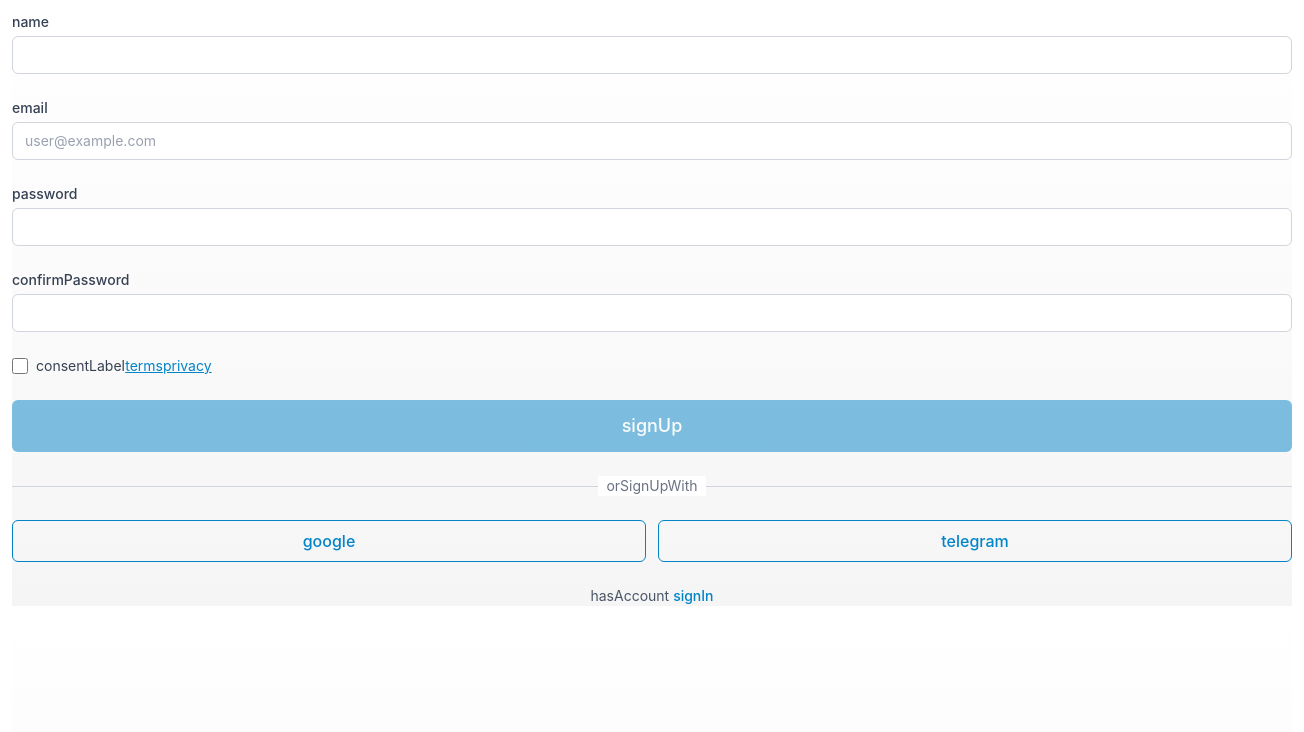
Test case: RegisterForm › submit button is enabled when all fields have values and consent is checked
The width and height of the screenshot is (1304, 732).
Type "Test User" into the field labelled "name" at (652, 55), box [12,36,1292,74]
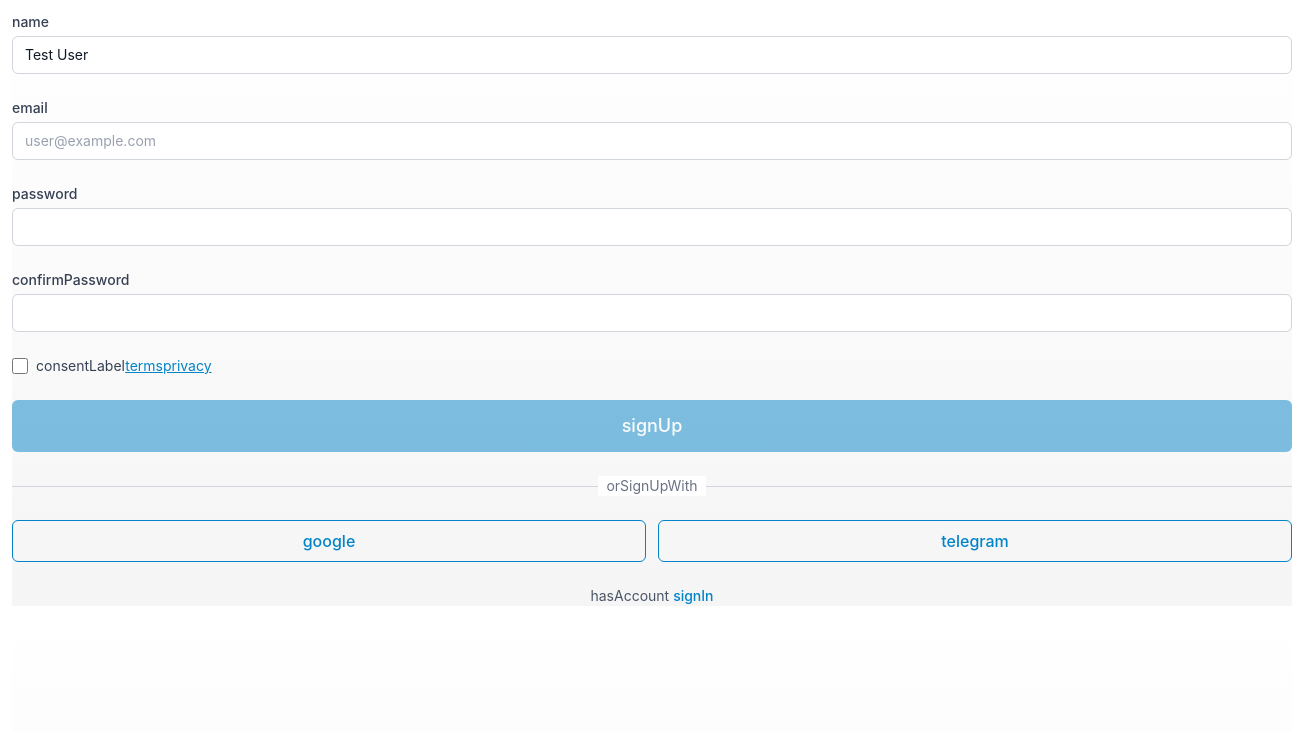
Type "test@example.com" into the field labelled "email" at (652, 141), box [12,122,1292,160]
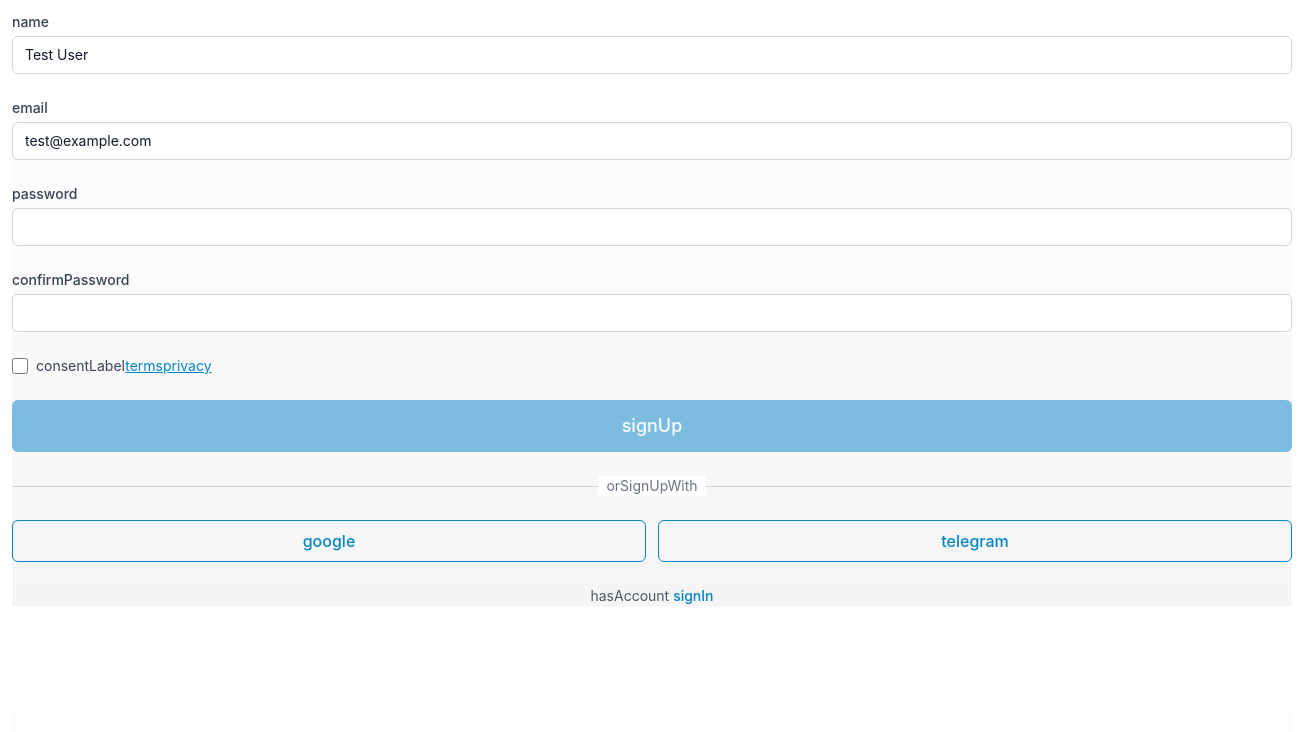
Type "Password1" into the password field labelled "password" at (652, 227), box [12,208,1292,246]
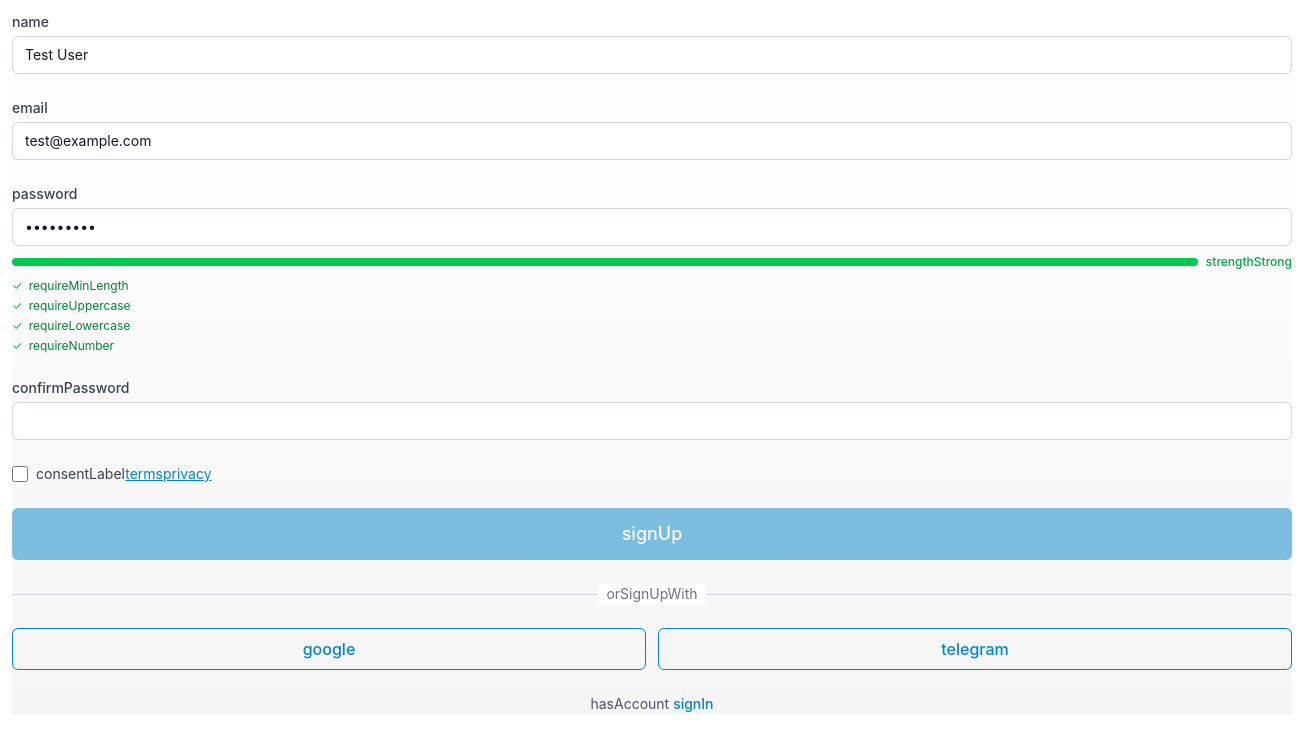
Type "Password1" into the password field labelled "confirmPassword" at (652, 421), box [12,402,1292,440]
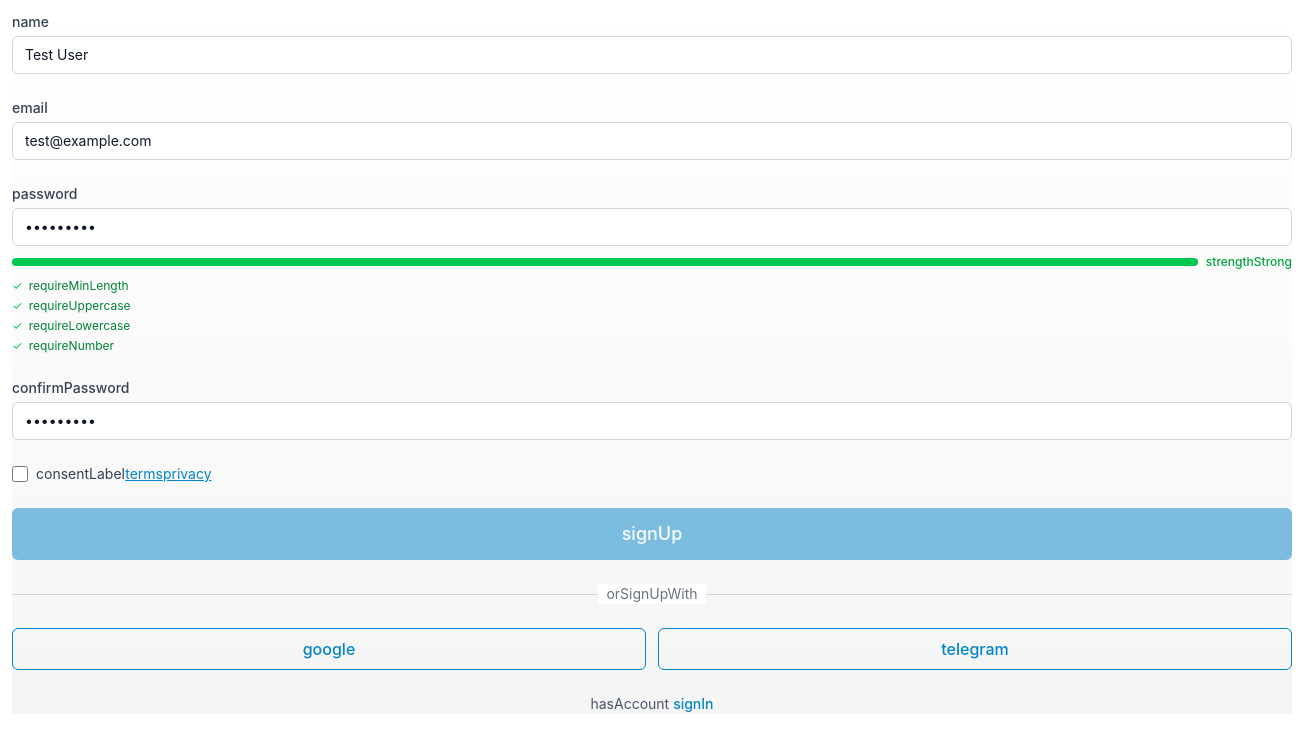
Click the checkbox with test id "consent-checkbox" at (20, 474), box [12,466,28,482]
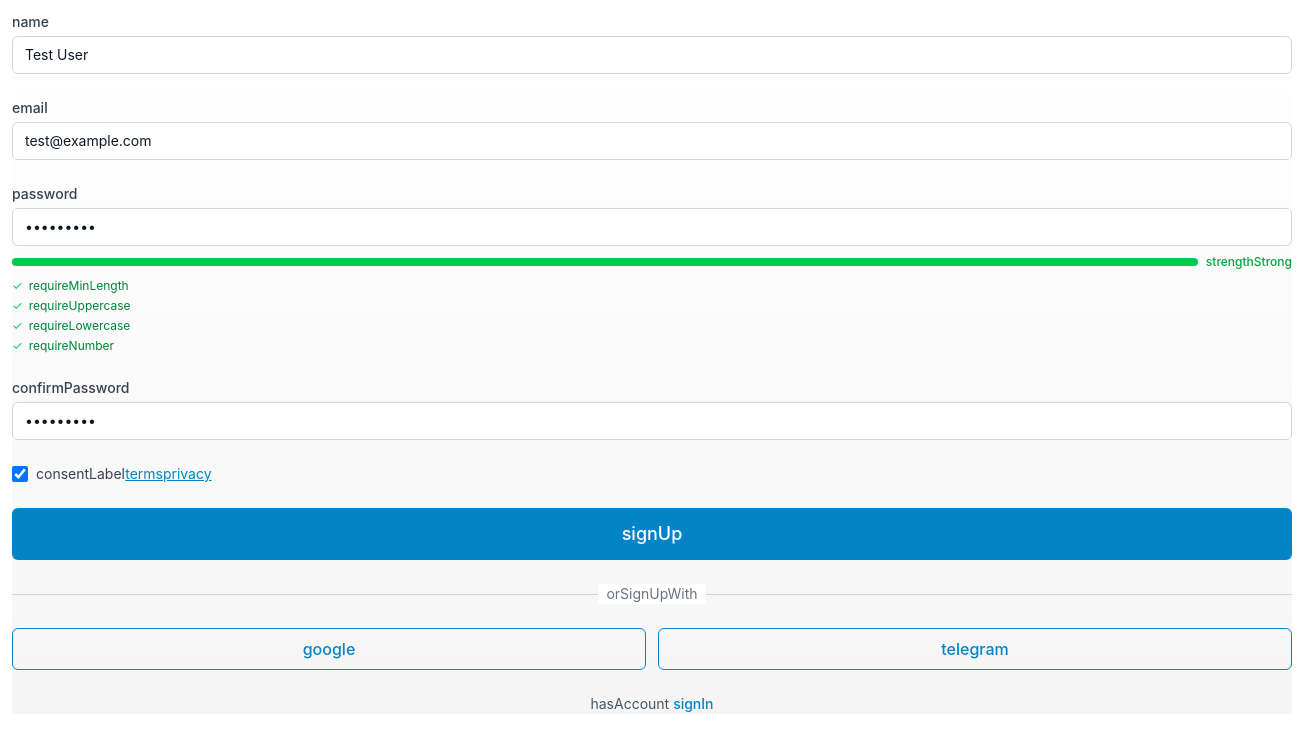
Check: the button "signUp" is enabled, box [12,508,1292,560]
